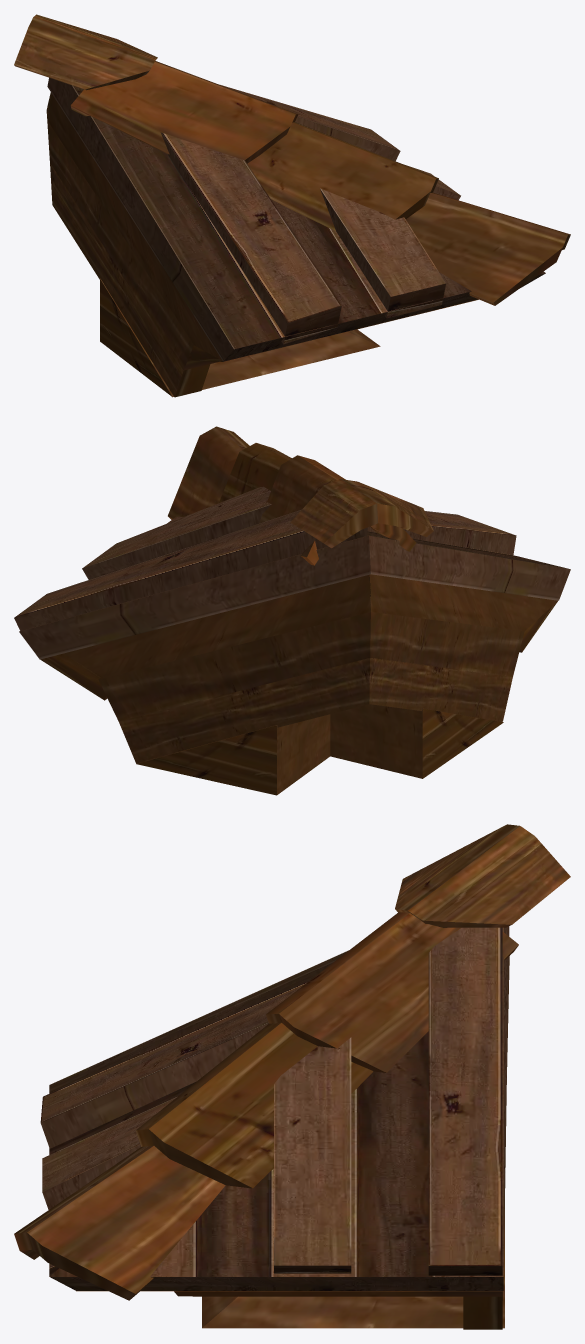
The picture shows the model from 3 angles, top to bottom: view 1: azimuth 30°, elevation 25°; view 2: azimuth 150°, elevation 25°; view 3: azimuth 270°, elevation 25°; orthographic projection. The views are drawn at different scales.
Visible parts, largest first — view 1: SM_BB_T2_Roof_Small_Hip_Shallow_LOD0; view 2: SM_BB_T2_Roof_Small_Hip_Shallow_LOD0; view 3: SM_BB_T2_Roof_Small_Hip_Shallow_LOD0.
Boxes of the visible parts, <box> form: SM_BB_T2_Roof_Small_Hip_Shallow_LOD0: <box>14,14,570,397</box>; SM_BB_T2_Roof_Small_Hip_Shallow_LOD0: <box>14,426,570,795</box>; SM_BB_T2_Roof_Small_Hip_Shallow_LOD0: <box>14,824,570,1329</box>.
Bounding box in the file's own units: 1.41 × 1.02 × 1.41.
Materials: 2 (2 with a texture image).
